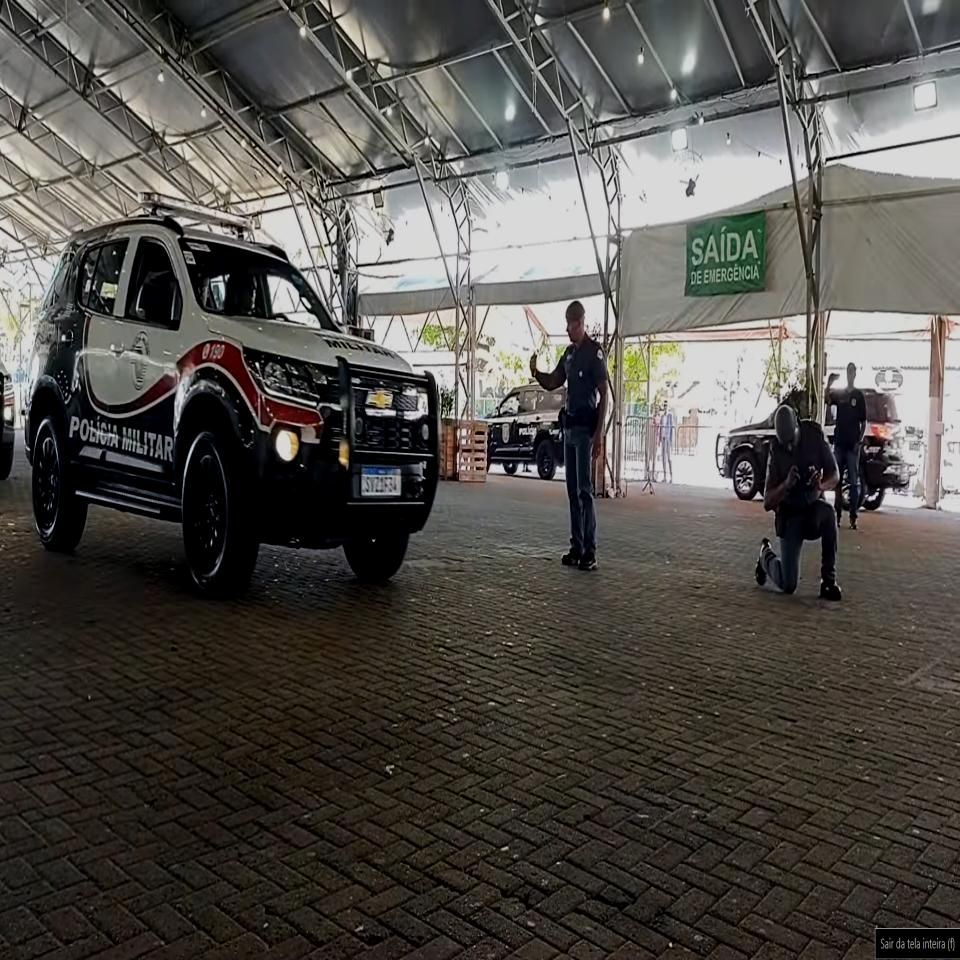viatura: (22, 191, 444, 598)
